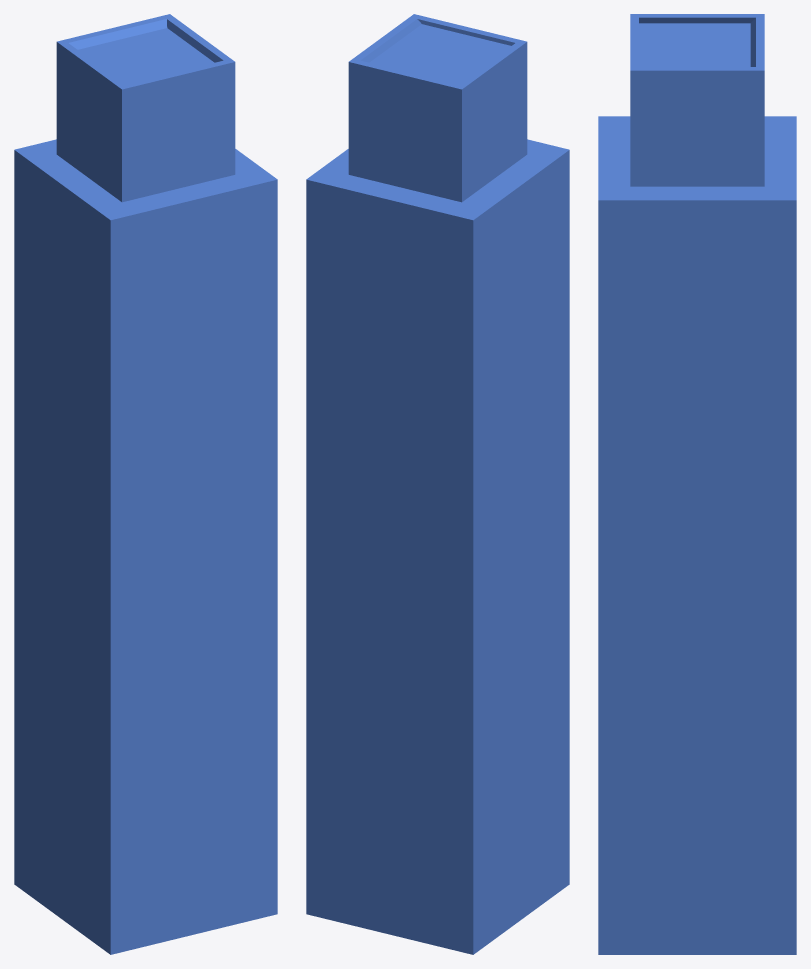
File: Building1_blue.fbx
The picture shows the model from 3 angles, left to right: view 1: azimuth 30°, elevation 25°; view 2: azimuth 150°, elevation 25°; view 3: azimuth 270°, elevation 25°; orthographic projection. The views are drawn at different scales.
Visible parts, largest first — view 1: Building 1; view 2: Building 1; view 3: Building 1.
Boxes of the visible parts, x1,y1,x2,y2 form: Building 1: (14, 14, 277, 954); Building 1: (306, 14, 569, 954); Building 1: (598, 14, 796, 954).
Size of the model in its own units: 1001 by 4853 by 1001.
Materials: 1 (1 with a texture image).
